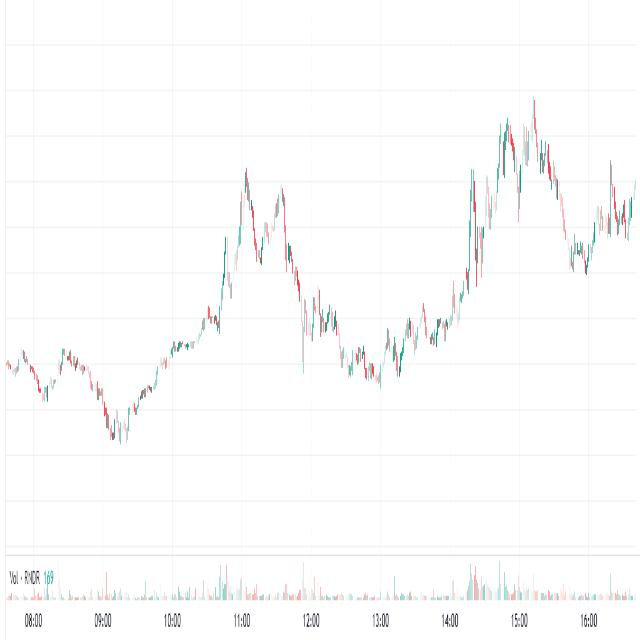Rounding-Bottom: (278, 147, 500, 404)
